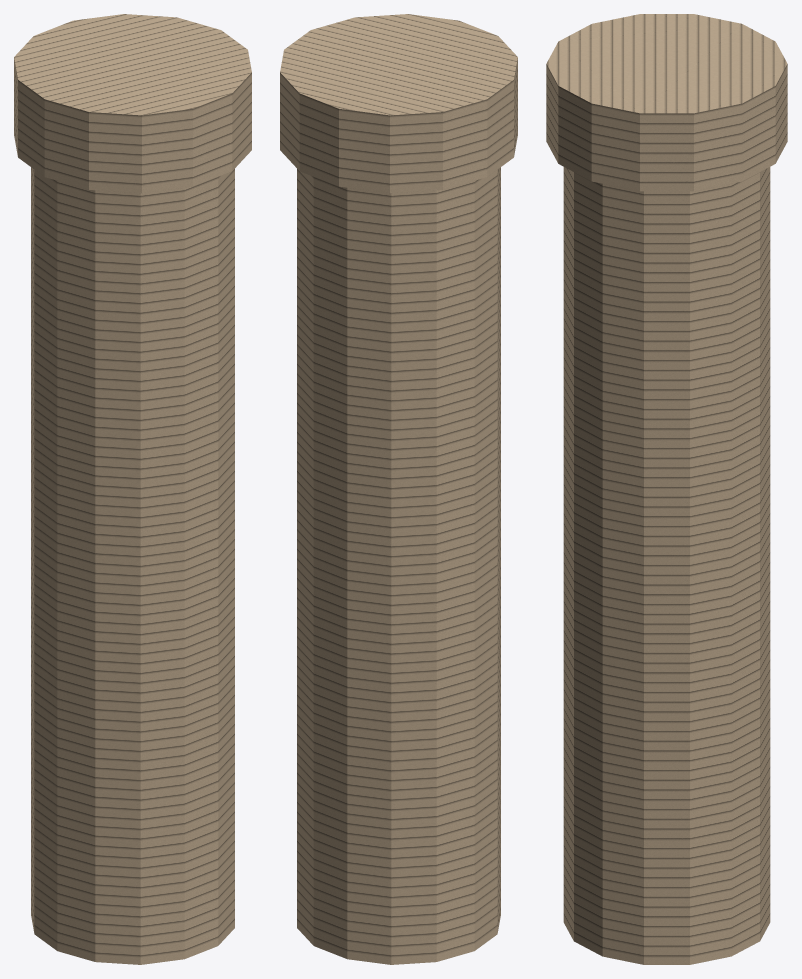
Rendered from pierhead_lighthouse.glb.
3 views of the same model, side by side, from view 1: azimuth 30°, elevation 25°; view 2: azimuth 150°, elevation 25°; view 3: azimuth 270°, elevation 25° (orthographic).
Parts seen in each view (by area): view 1: pierhead_lighthouse-col; view 2: pierhead_lighthouse-col; view 3: pierhead_lighthouse-col.
Part boxes in pixels (bbox=[...]): pierhead_lighthouse-col: bbox=[14, 14, 251, 964]; pierhead_lighthouse-col: bbox=[280, 14, 517, 964]; pierhead_lighthouse-col: bbox=[546, 14, 787, 964].
Size of the model in its own units: 2.73 by 11 by 2.8.
Materials: 1 (1 with a texture image).
